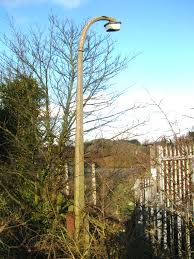light_pole: (73, 34, 90, 250)
